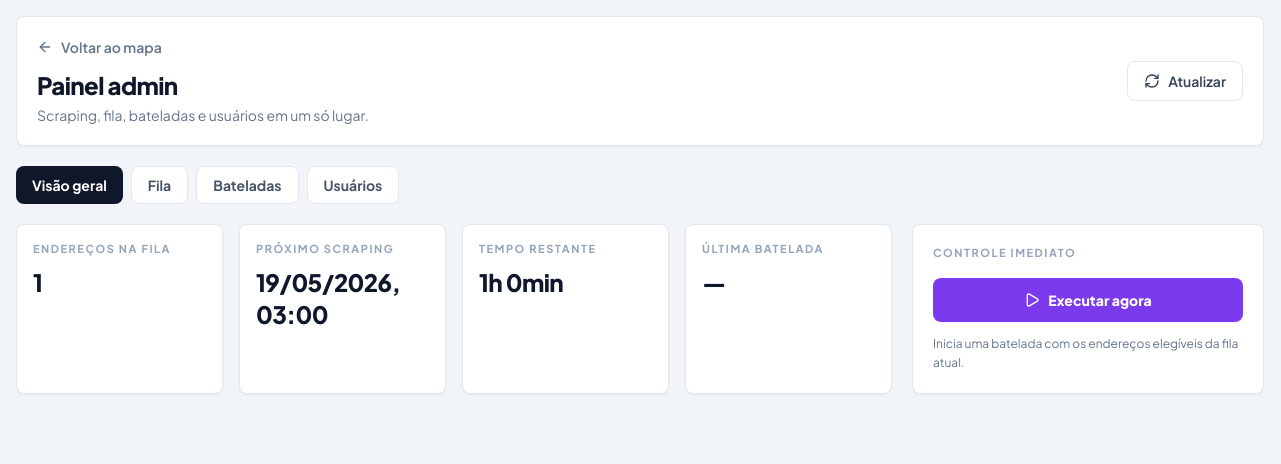
Test case: ScrapingAdminPage › permite alternar todas as restriÃƒÂ§ÃƒÂµes de uso para um usuÃƒÂ¡rio
The width and height of the screenshot is (1281, 464).
Click the button "Usuários". click: {"x": 353, "y": 185}
box: [306,166,399,204]
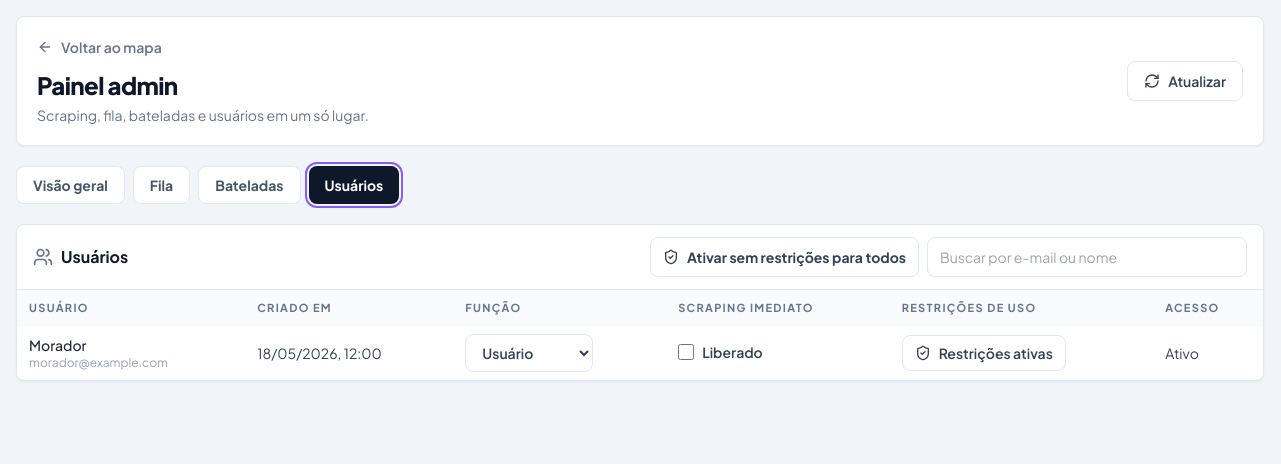
Click the button "Restrições ativas". click: {"x": 984, "y": 353}
box: [902,335,1066,371]
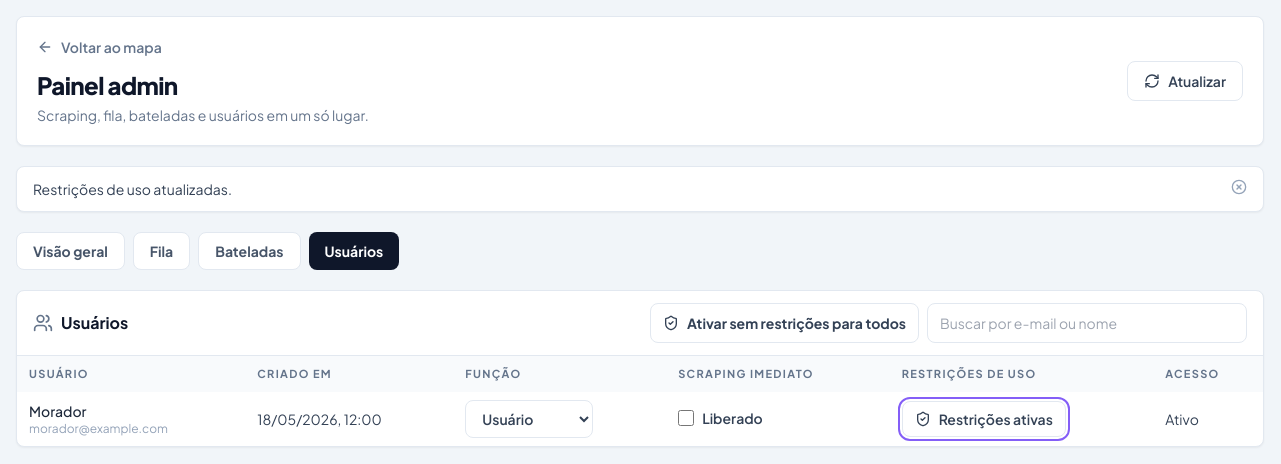
Check: the text "Restrições de uso atualizadas." is shown, box [33,179,232,199]
